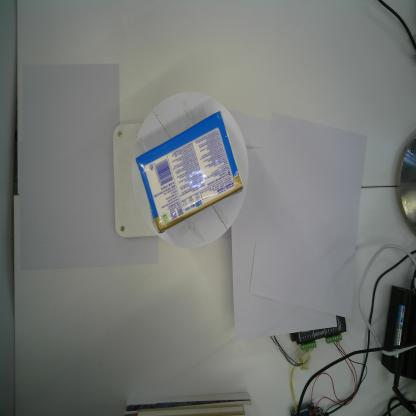Tissue: (134, 109, 244, 235)
